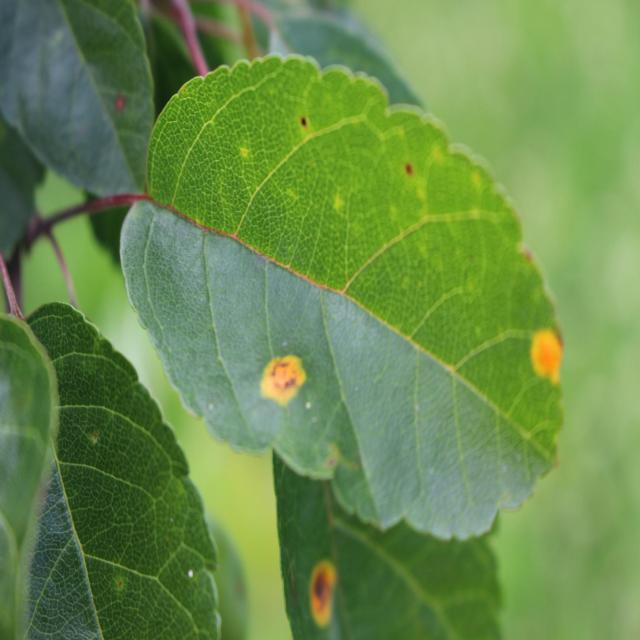Rust: (508, 304, 580, 410), (288, 556, 363, 634), (254, 319, 313, 416)
